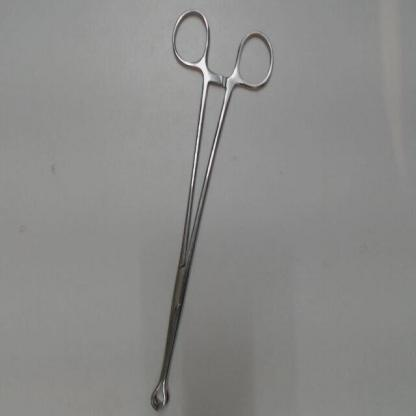8 Babcock Tissue Forceps: (146, 5, 278, 414)
